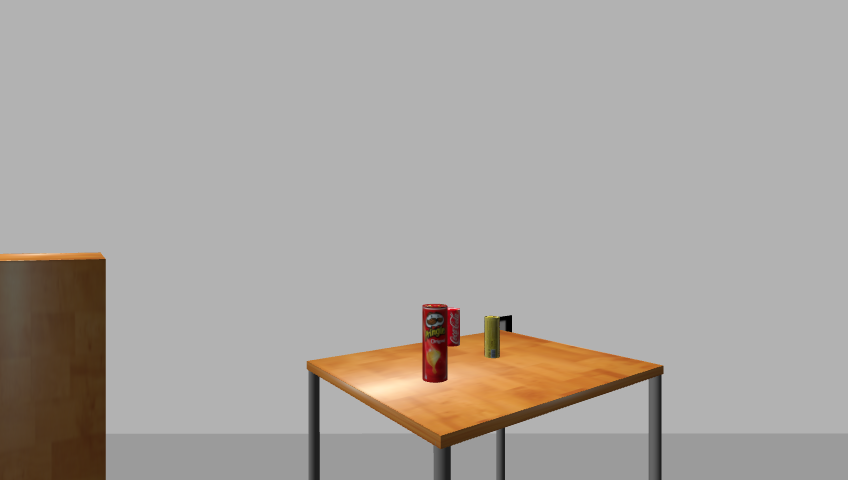aruco marker: (496, 315, 515, 337)
biscuits pack: (484, 316, 501, 360)
bookshelf: (0, 251, 112, 479)
coke can: (445, 307, 463, 348)
dinner table: (300, 334, 671, 480)
pringles can: (420, 304, 449, 385)
